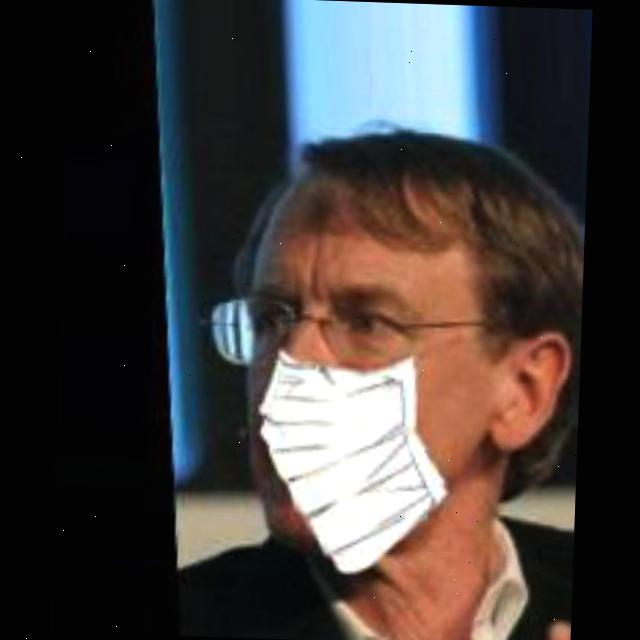suspicion: (211, 134, 568, 583)
